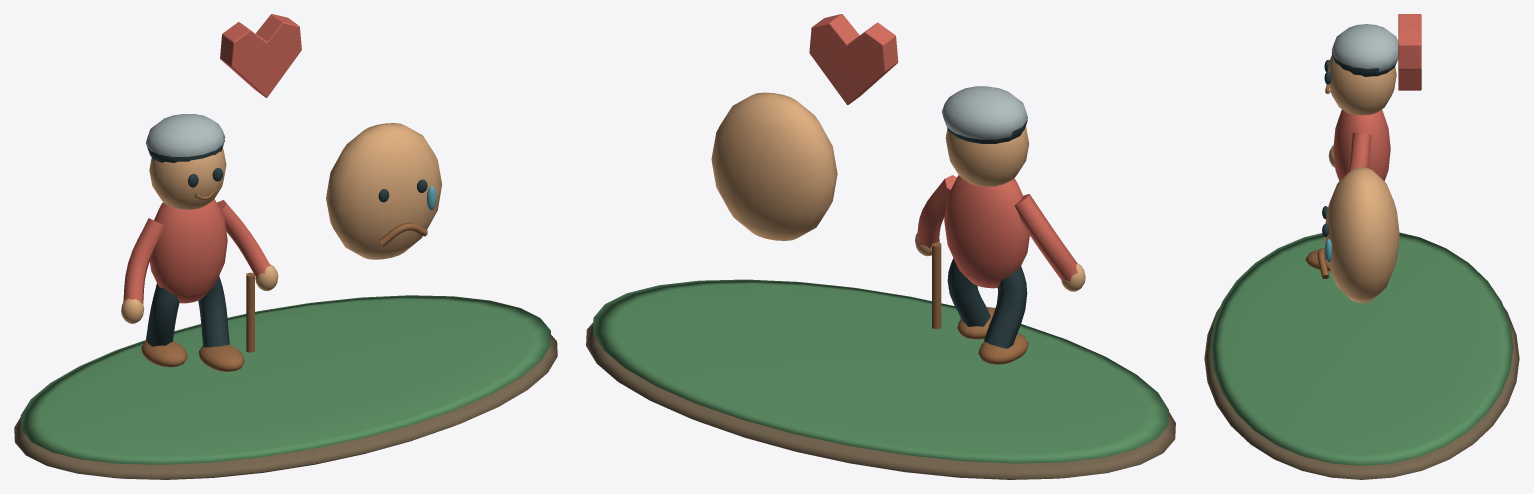
The model's file is complete-third-parent-shy-relative.glb.
3 views of the same model, side by side, from view 1: azimuth 30°, elevation 25°; view 2: azimuth 150°, elevation 25°; view 3: azimuth 270°, elevation 25° (orthographic). The views are drawn at different scales.
Visible parts, largest first — view 1: complete-third-parent-shy-relative_surface_01, complete-third-parent-shy-relative_surface_02, complete-third-parent-shy-relative_surface_05, complete-third-parent-shy-relative_surface_00, complete-third-parent-shy-relative_surface_03, complete-third-parent-shy-relative_surface_04, complete-third-parent-shy-relative_surface_06; view 2: complete-third-parent-shy-relative_surface_01, complete-third-parent-shy-relative_surface_02, complete-third-parent-shy-relative_surface_05, complete-third-parent-shy-relative_surface_00, complete-third-parent-shy-relative_surface_03, complete-third-parent-shy-relative_surface_06, complete-third-parent-shy-relative_surface_04; view 3: complete-third-parent-shy-relative_surface_01, complete-third-parent-shy-relative_surface_02, complete-third-parent-shy-relative_surface_00, complete-third-parent-shy-relative_surface_05, complete-third-parent-shy-relative_surface_06, complete-third-parent-shy-relative_surface_03, complete-third-parent-shy-relative_surface_04.
Part boxes in pixels (x1,y1,x2,y2): complete-third-parent-shy-relative_surface_01: (20, 295, 551, 464); complete-third-parent-shy-relative_surface_02: (121, 123, 442, 323); complete-third-parent-shy-relative_surface_05: (123, 14, 301, 303); complete-third-parent-shy-relative_surface_00: (14, 335, 557, 479); complete-third-parent-shy-relative_surface_03: (146, 140, 427, 347); complete-third-parent-shy-relative_surface_04: (141, 189, 427, 371); complete-third-parent-shy-relative_surface_06: (146, 114, 225, 157); complete-third-parent-shy-relative_surface_01: (593, 279, 1168, 463); complete-third-parent-shy-relative_surface_02: (711, 92, 1085, 291); complete-third-parent-shy-relative_surface_05: (809, 14, 1077, 288); complete-third-parent-shy-relative_surface_00: (586, 322, 1175, 479); complete-third-parent-shy-relative_surface_03: (947, 120, 1027, 348); complete-third-parent-shy-relative_surface_06: (941, 86, 1027, 139); complete-third-parent-shy-relative_surface_04: (932, 242, 1028, 364); complete-third-parent-shy-relative_surface_01: (1210, 232, 1513, 465); complete-third-parent-shy-relative_surface_02: (1324, 54, 1399, 303); complete-third-parent-shy-relative_surface_00: (1204, 307, 1519, 479); complete-third-parent-shy-relative_surface_05: (1333, 14, 1421, 180); complete-third-parent-shy-relative_surface_06: (1331, 24, 1398, 72); complete-third-parent-shy-relative_surface_03: (1322, 52, 1395, 237); complete-third-parent-shy-relative_surface_04: (1305, 84, 1330, 278).
Size of the model in its own units: 4.56 by 3.07 by 2.5.
